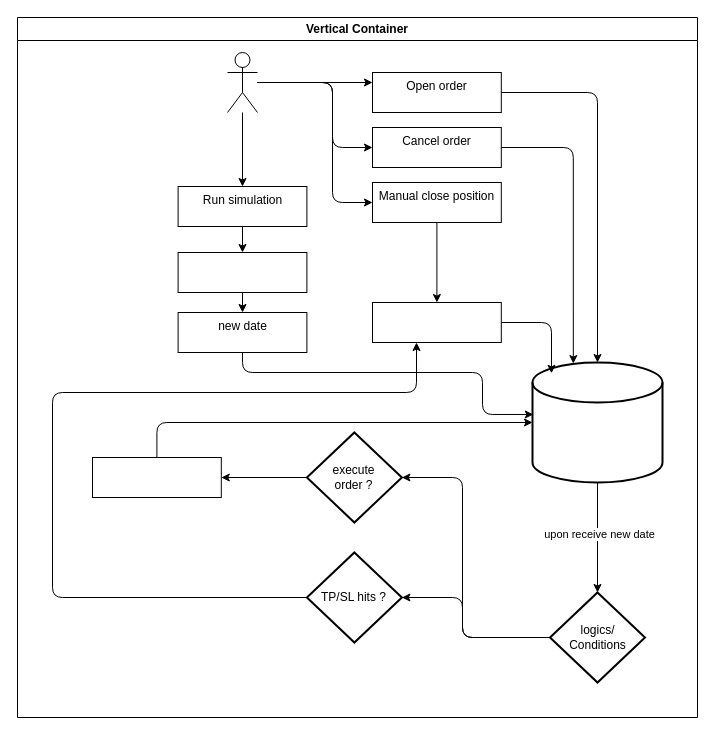
The diagram is 715 pixels wide and 735 high, and some of its shapes have lost their labels. Each missing label, with the centre of its shape:
"Close position" goes at pixel 436 322.
"Generate candlesticks" goes at pixel 242 272.
"OrderBook (Database)" goes at pixel 597 422.
"update order/position" goes at pixel 156 477.
"User" goes at pixel 242 82.
